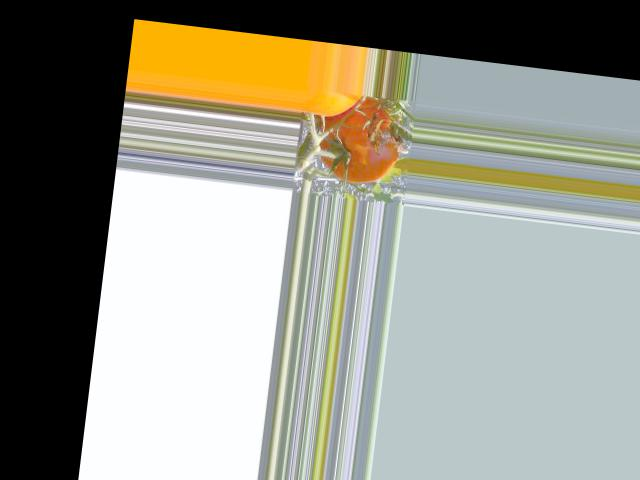tomato: (315, 92, 407, 188)
